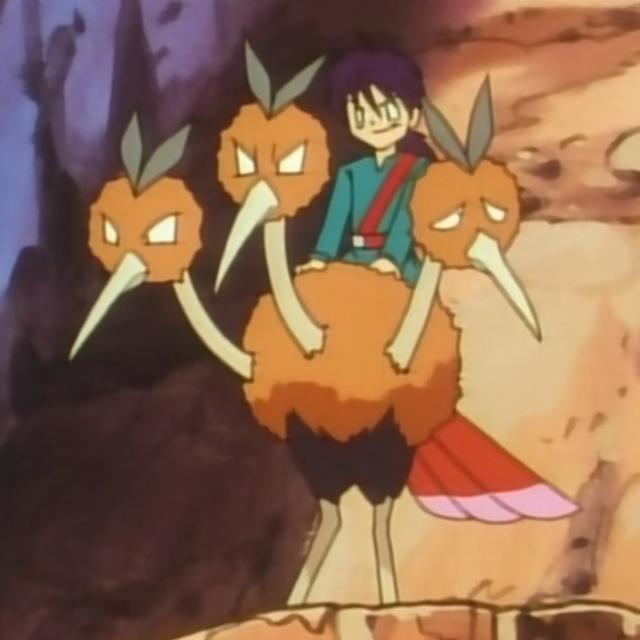Dodrio: (80, 76, 522, 597)
